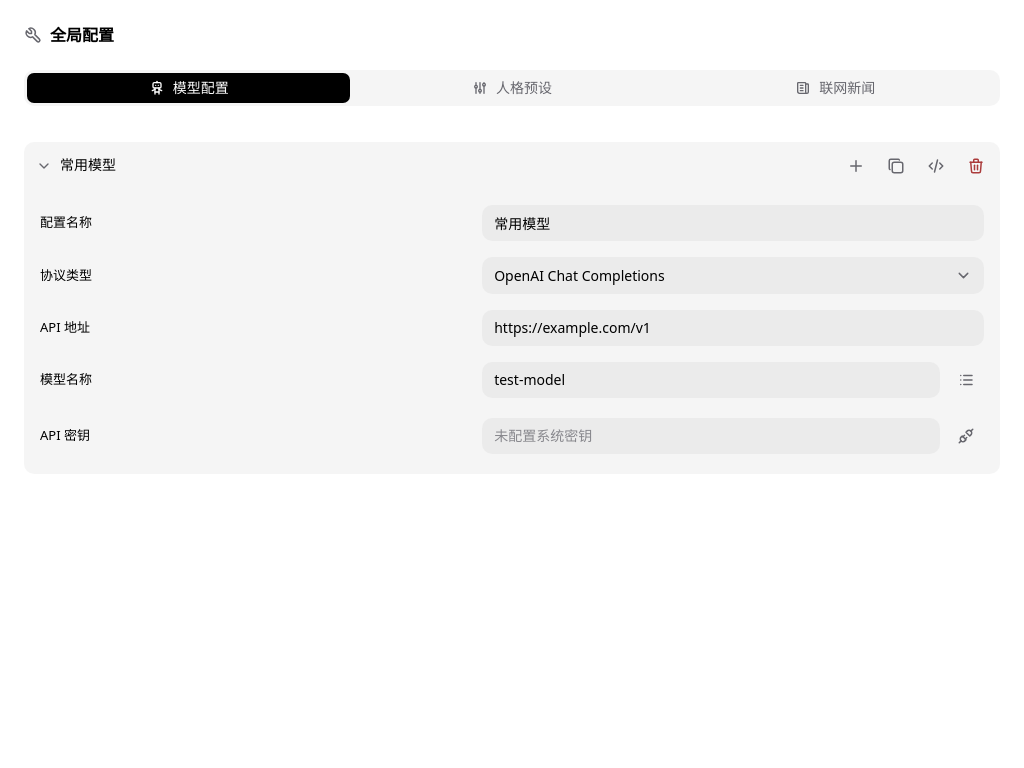
it: 即时应用的全局配置 › 新闻来源测试展示实际命中的渠道，不写配置
This screenshot has width=1024, height=768.
Expected: the field named "模型名称" is shown, [482,362,940,398]
Click the tab "联网新闻" at [835, 88], box [674,73,997,103]
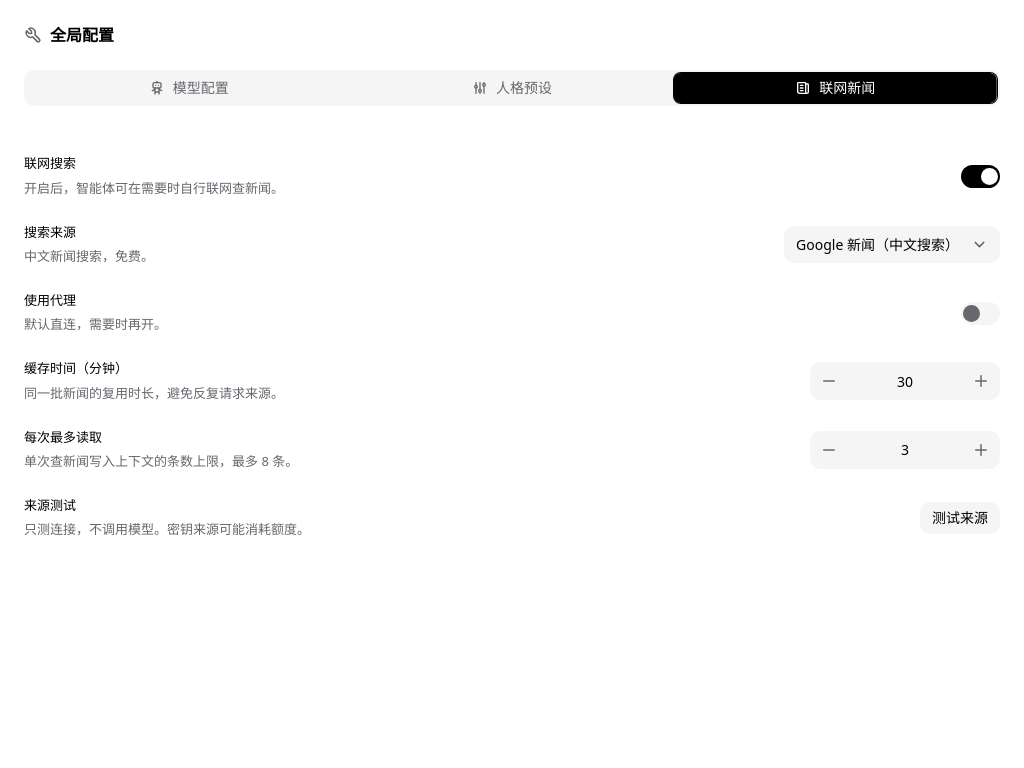
Click the button "测试来源" at [960, 518], box [920,502,1000,534]
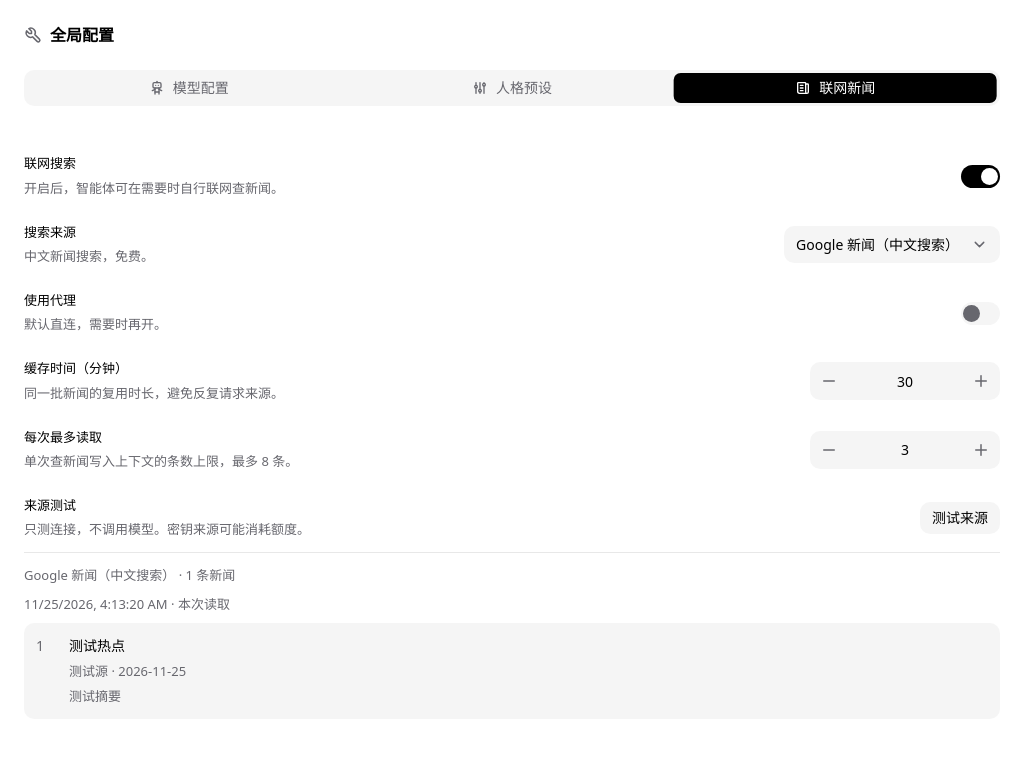
Now the text "Google 新闻（中文搜索） · 1 条新闻" is shown, box [24,566,235,584]
Now the number of list items is 1, box [24,623,1000,719]
Now the text "测试热点" is shown, box [69,636,125,655]
